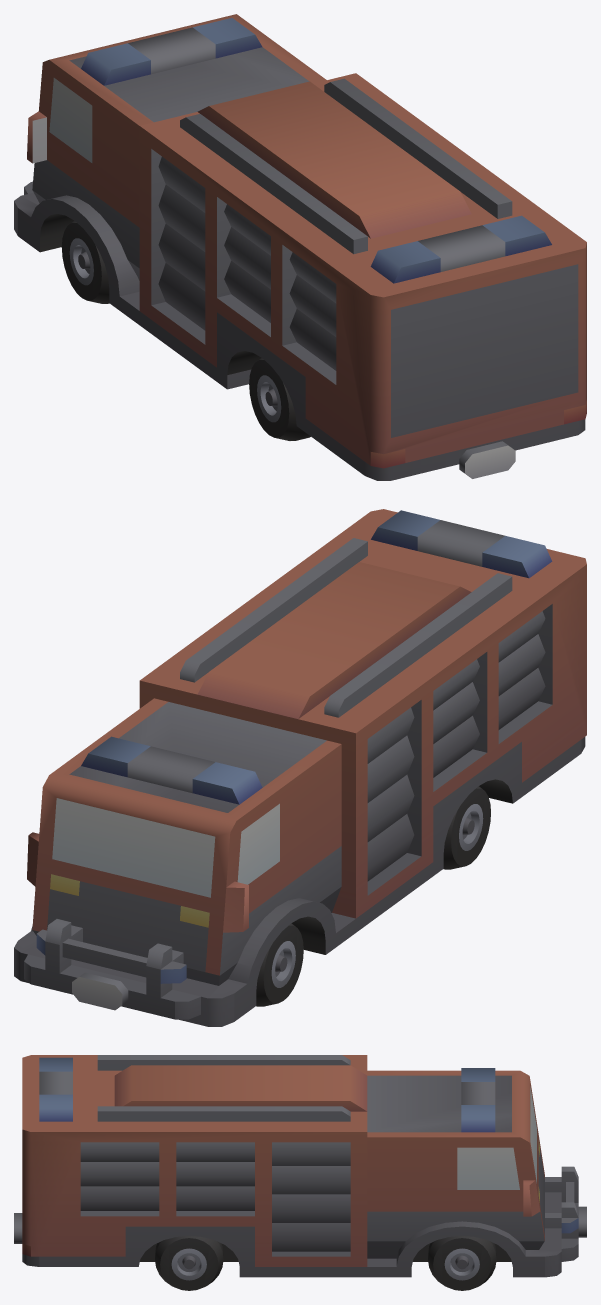
File: firetruck.glb
The picture shows the model from 3 angles, top to bottom: view 1: azimuth 30°, elevation 25°; view 2: azimuth 150°, elevation 25°; view 3: azimuth 270°, elevation 25°; orthographic projection. The views are drawn at different scales.
Parts seen in each view (by area): view 1: body, wheel-back-left, wheel-front-left; view 2: body, grill, wheel-back-left, wheel-front-left; view 3: body, wheel-back-right, wheel-front-right, grill.
Boxes of the visible parts, x1,y1,x2,y2 form: body: [14, 14, 586, 480]; wheel-back-left: [249, 357, 310, 440]; wheel-front-left: [61, 220, 109, 303]; body: [14, 509, 586, 1026]; grill: [24, 919, 200, 1019]; wheel-back-left: [443, 786, 490, 869]; wheel-front-left: [256, 923, 303, 1006]; body: [14, 1055, 561, 1277]; wheel-back-right: [155, 1236, 223, 1290]; wheel-front-right: [428, 1236, 496, 1290]; grill: [545, 1166, 586, 1261].
Bounding box in the file's own units: 1.9 × 2.03 × 5.98.
1 material, 1 textured.
